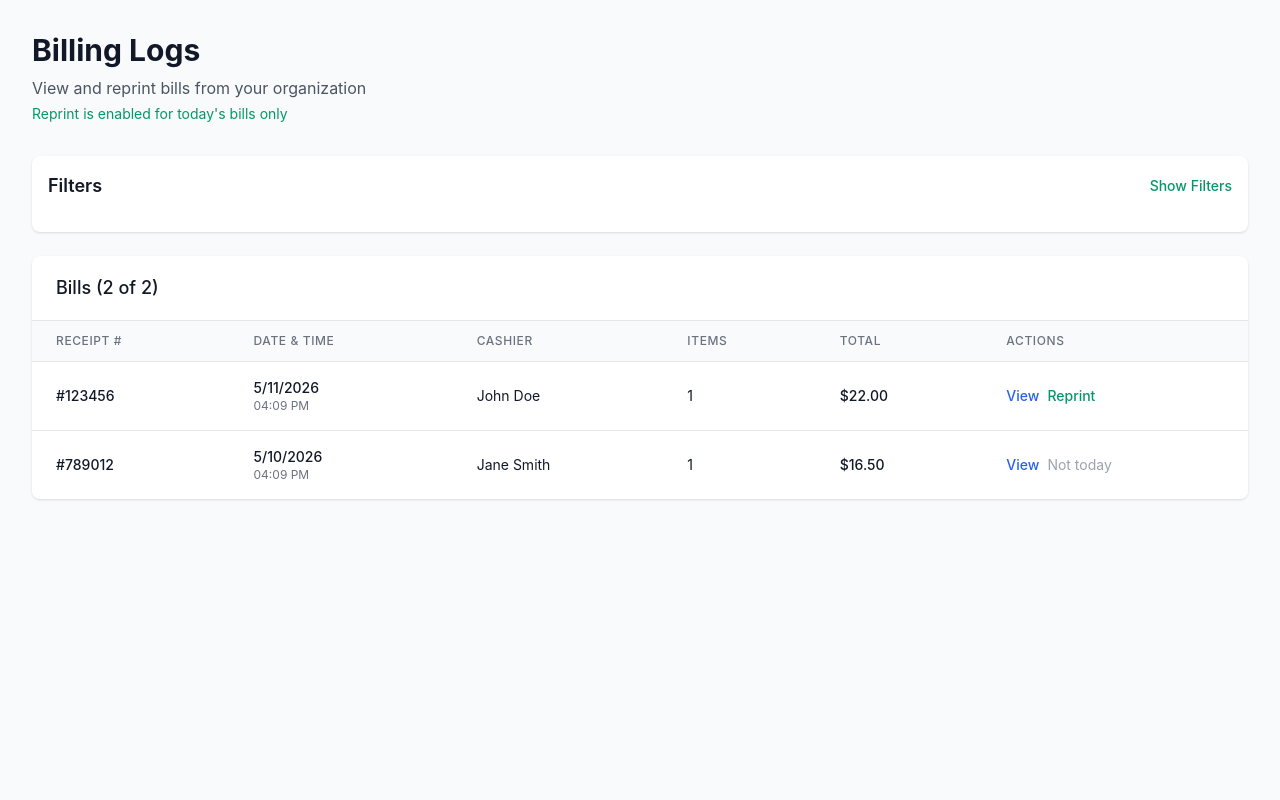
it: BillingLogsPage › clear filters works correctly
Click the button "Show Filters" at (1191, 186), box [1150,176,1232,196]
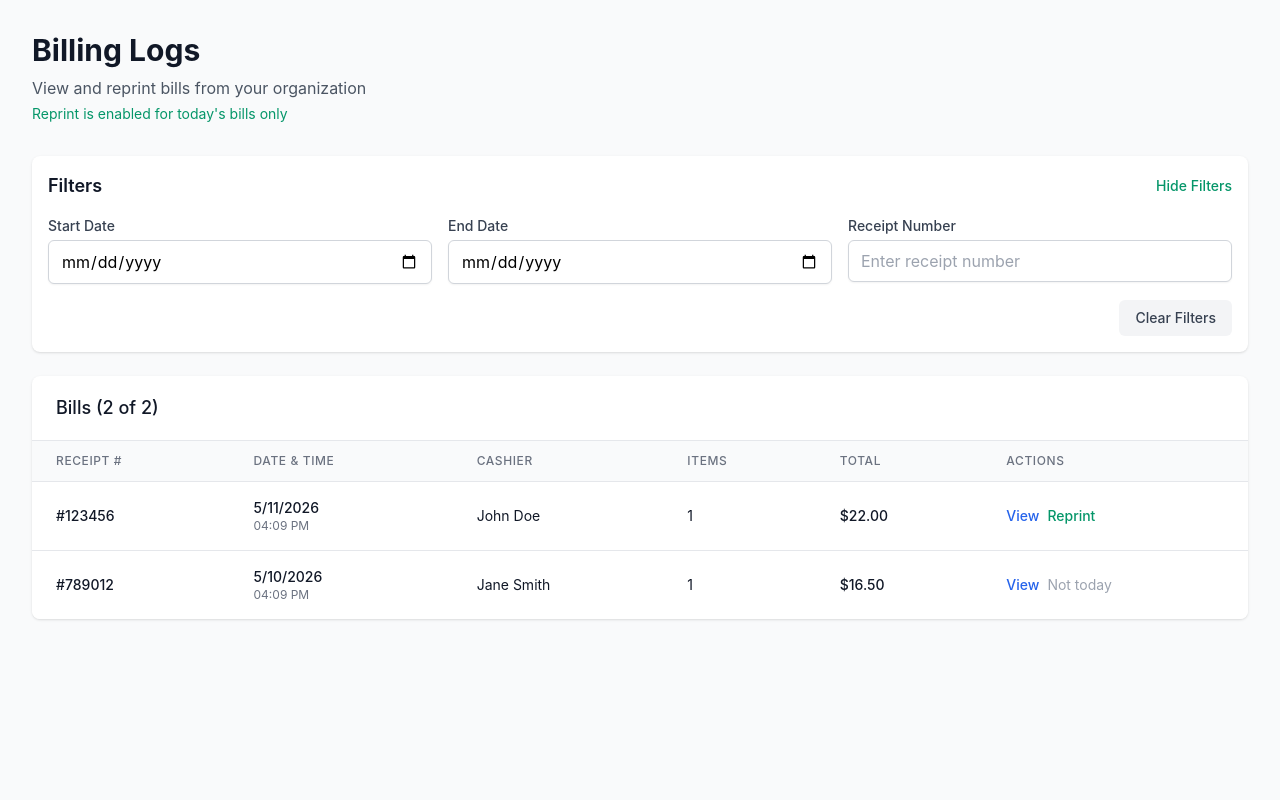
Note: Filter by receipt number
Type "123456" into the field with placeholder "Enter receipt number" at (1040, 261), box [848,240,1232,282]
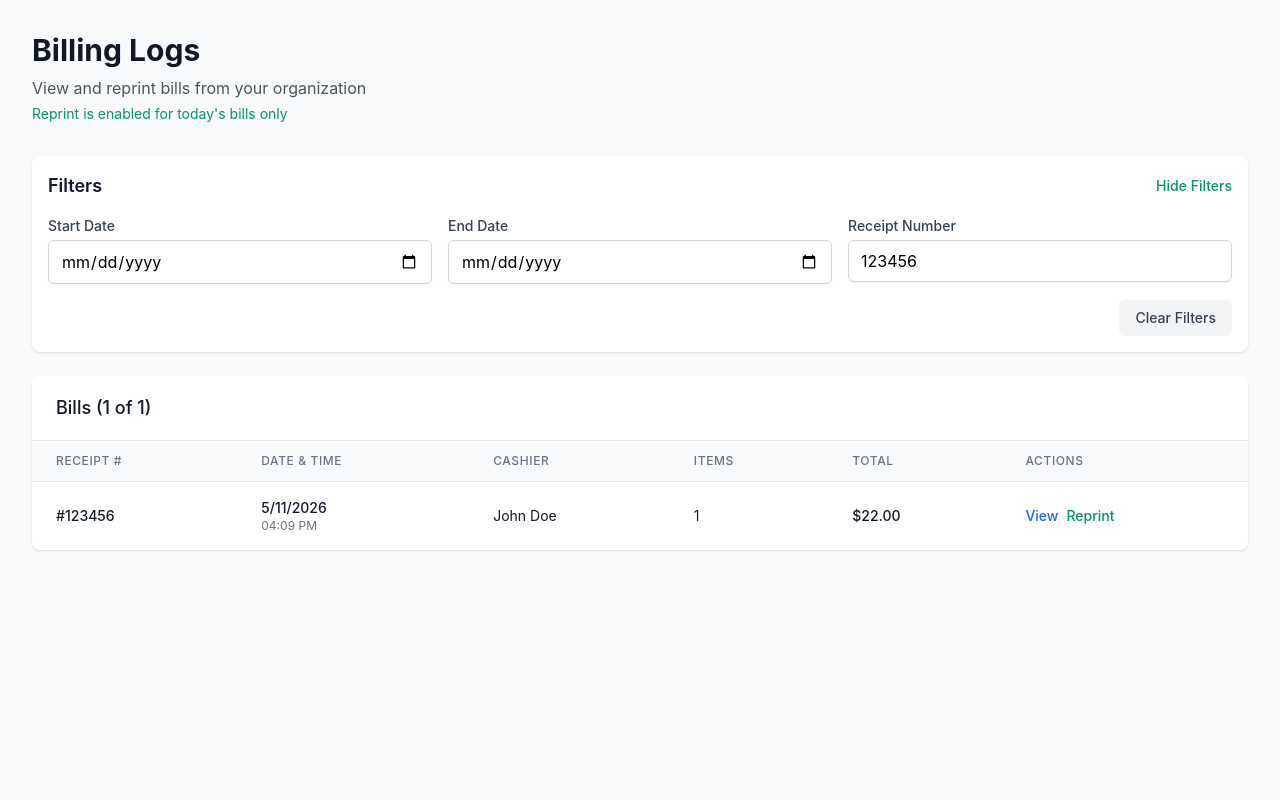
Note: Clear filters
Click the button "Clear Filters" at (1176, 318), box [1119,300,1232,336]
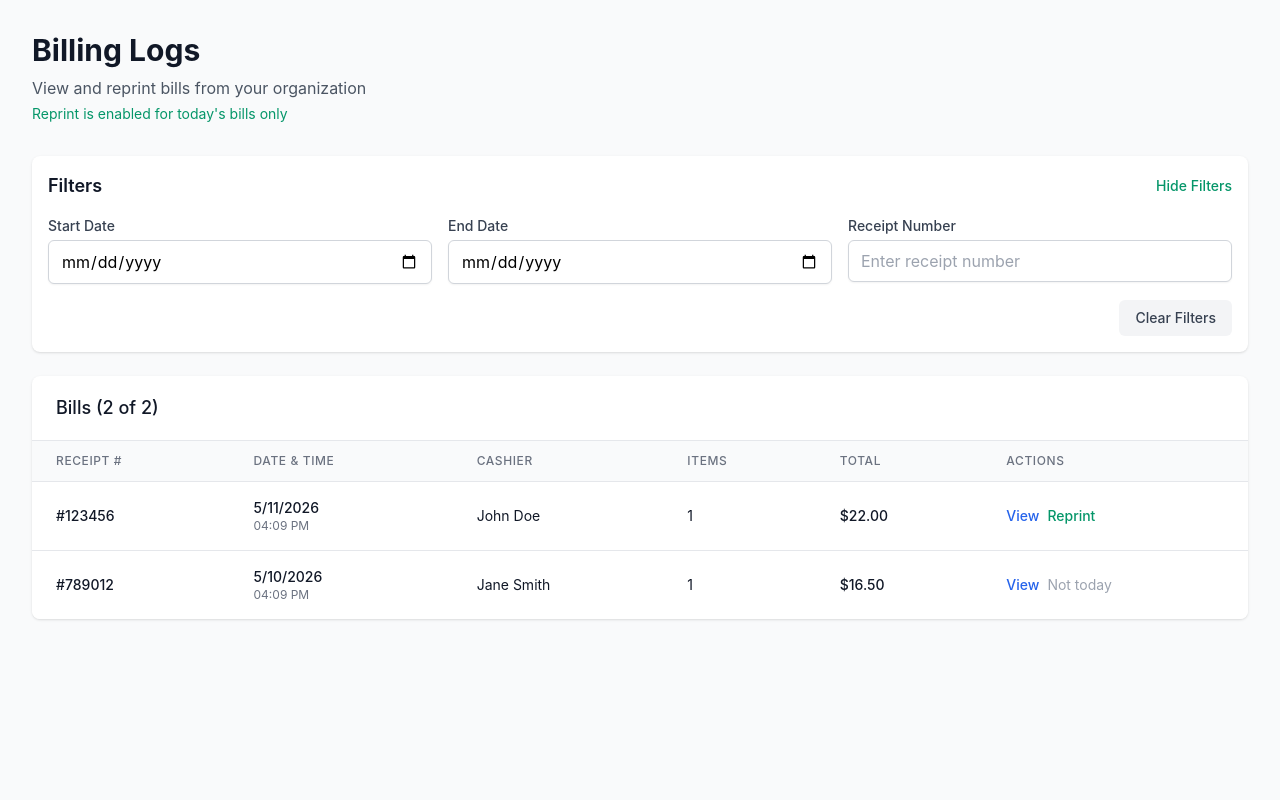
Check: the text "#123456" is shown, box [32,482,230,550]
Check: the text "#789012" is shown, box [32,550,230,619]
